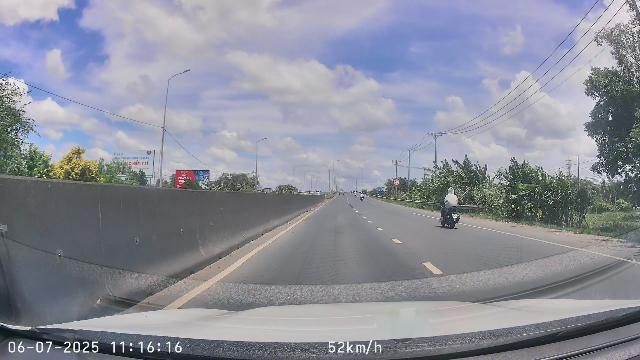127-toc-do-toi-da-60: (393, 178, 400, 186)
